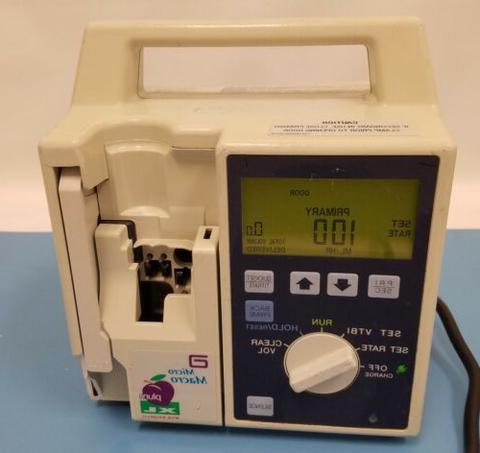plumxl1: (41, 21, 450, 439)
